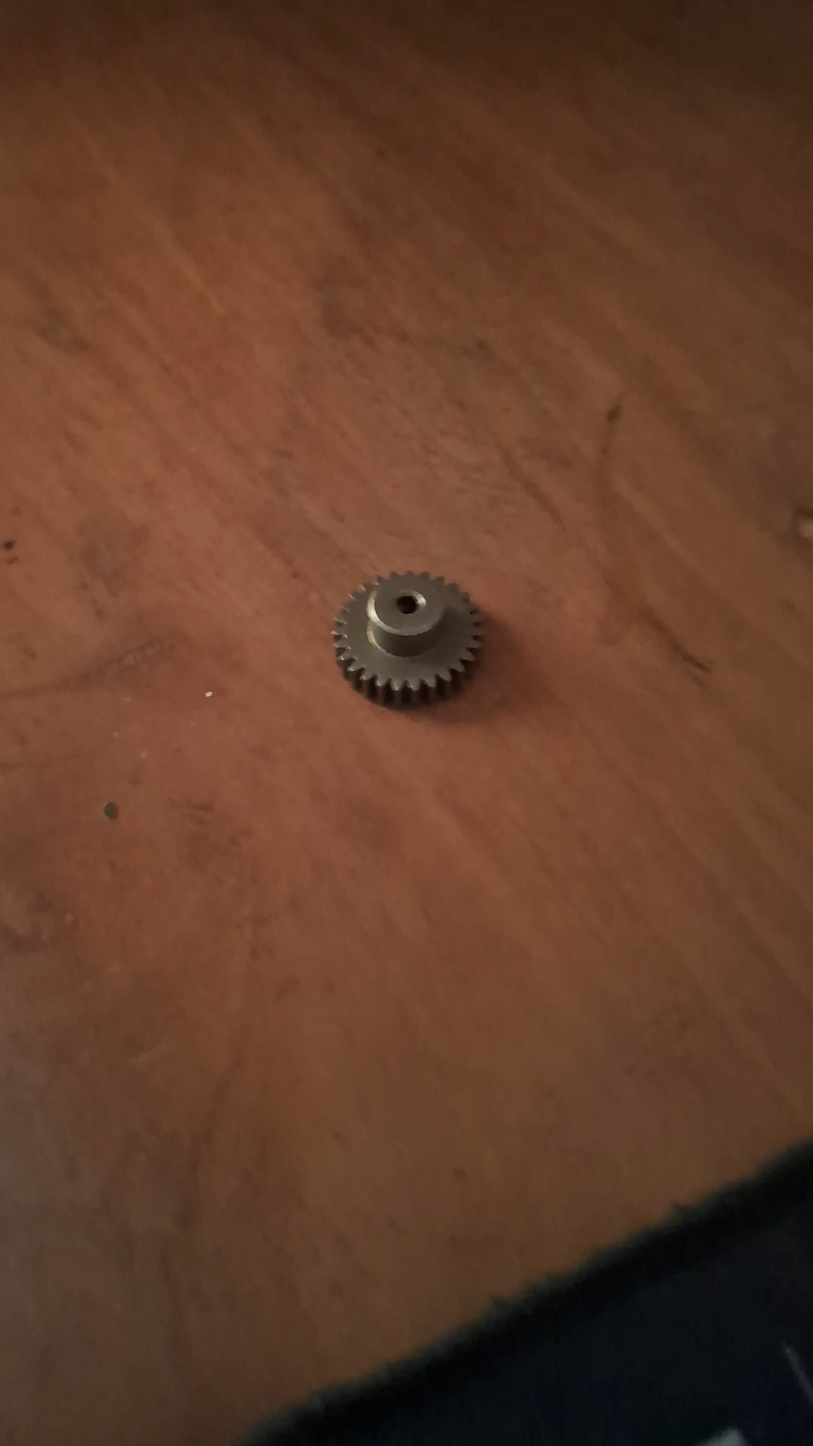spur gear: (333, 573, 480, 705)
